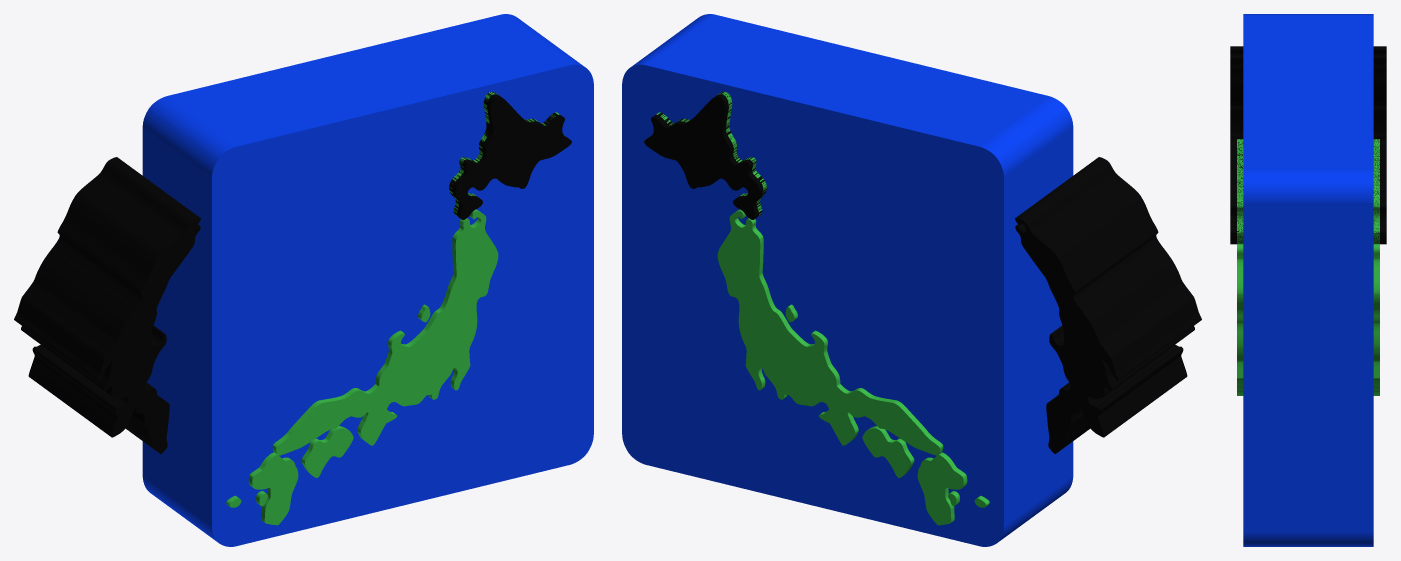
3 renders of one model, left to right at view 1: azimuth 30°, elevation 25°; view 2: azimuth 150°, elevation 25°; view 3: azimuth 270°, elevation 25°, orthographic. The views are drawn at different scales.
Visible parts, largest first — view 1: U+1F5FE_layer00_obj00, U+1F5FE_layer02_obj01, U+1F5FE_layer01_obj03, U+1F5FE_layer02_obj00, U+1F5FE_layer01_obj01, U+1F5FE_layer01_obj02; view 2: U+1F5FE_layer00_obj00, U+1F5FE_layer02_obj01, U+1F5FE_layer01_obj03, U+1F5FE_layer02_obj00, U+1F5FE_layer01_obj01, U+1F5FE_layer01_obj02; view 3: U+1F5FE_layer00_obj00, U+1F5FE_layer02_obj01, U+1F5FE_layer02_obj00, U+1F5FE_layer01_obj03, U+1F5FE_layer01_obj04.
Boxes of the visible parts, x1,y1,x2,y2 form: U+1F5FE_layer00_obj00: [142, 14, 593, 546]; U+1F5FE_layer02_obj01: [14, 157, 200, 453]; U+1F5FE_layer01_obj03: [272, 209, 498, 455]; U+1F5FE_layer02_obj00: [449, 92, 571, 219]; U+1F5FE_layer01_obj01: [248, 452, 298, 525]; U+1F5FE_layer01_obj02: [301, 426, 353, 477]; U+1F5FE_layer00_obj00: [622, 14, 1073, 546]; U+1F5FE_layer02_obj01: [1015, 157, 1201, 453]; U+1F5FE_layer01_obj03: [717, 209, 943, 455]; U+1F5FE_layer02_obj00: [644, 92, 766, 219]; U+1F5FE_layer01_obj01: [917, 452, 967, 525]; U+1F5FE_layer01_obj02: [862, 426, 914, 477]; U+1F5FE_layer00_obj00: [1243, 14, 1373, 546]; U+1F5FE_layer02_obj01: [1230, 46, 1386, 138]; U+1F5FE_layer02_obj00: [1230, 139, 1386, 244]; U+1F5FE_layer01_obj03: [1237, 244, 1379, 392]; U+1F5FE_layer01_obj04: [1237, 139, 1379, 244].
Bounding box in the file's own units: 0.4198 × 0.3183 × 0.12.
